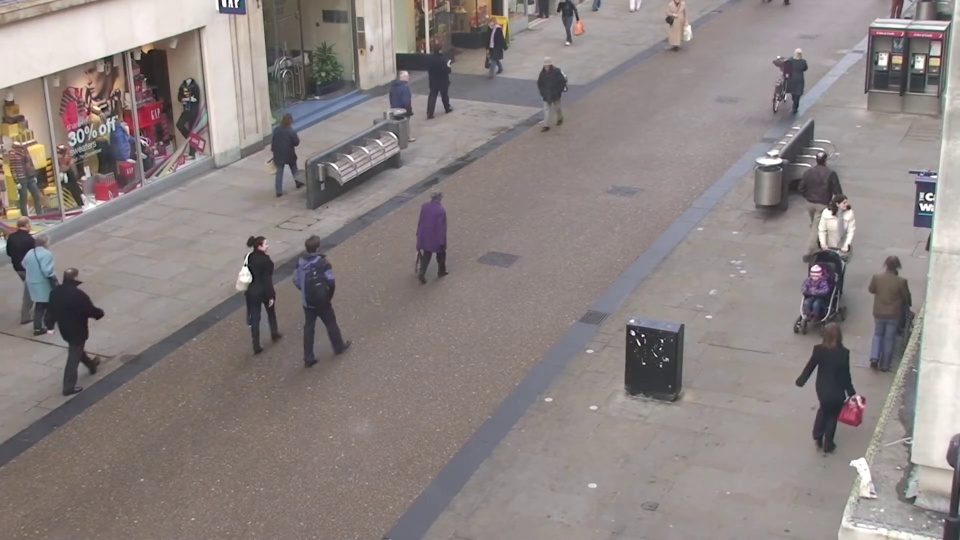pedestrian: (806, 312, 862, 461), (61, 254, 119, 384), (863, 244, 917, 376), (28, 222, 86, 344), (9, 208, 67, 326), (784, 260, 834, 394), (249, 227, 296, 350), (304, 226, 349, 350), (812, 194, 857, 311), (425, 176, 464, 289), (803, 142, 843, 246), (279, 108, 314, 200), (394, 65, 424, 146), (781, 42, 811, 119), (531, 55, 558, 134), (428, 39, 455, 113), (481, 15, 505, 83)
